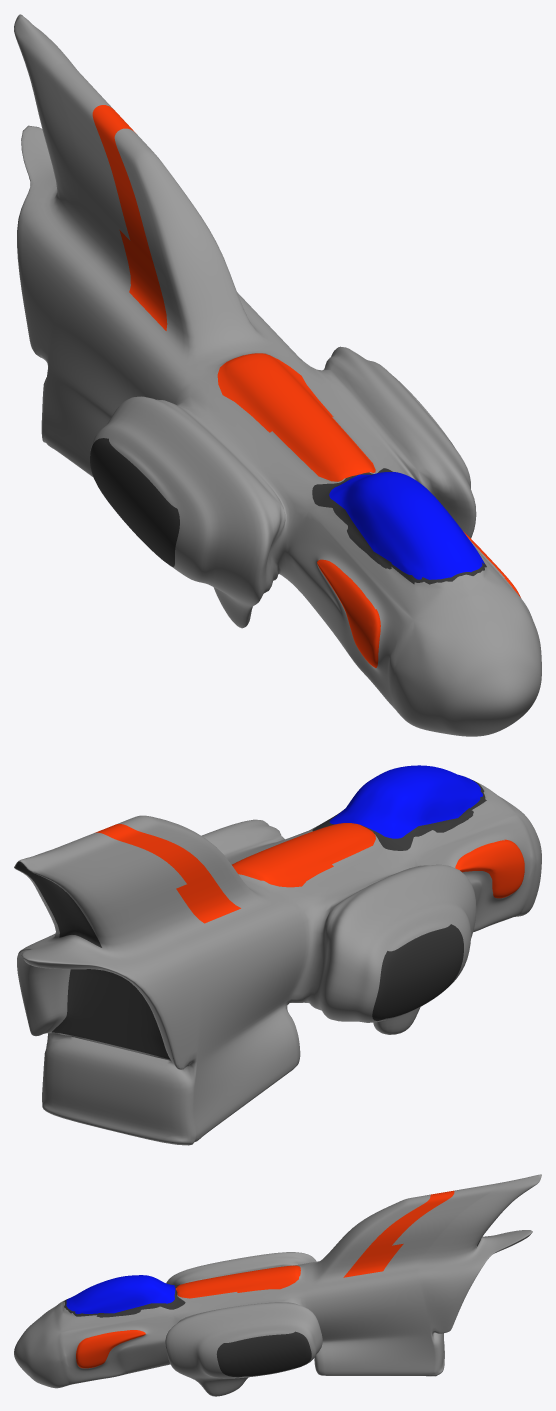
Rendered from Modular_Cockpit_01.FBX.
3 renders of one model, top to bottom at view 1: azimuth 30°, elevation 25°; view 2: azimuth 150°, elevation 25°; view 3: azimuth 270°, elevation 25°, orthographic. The views are drawn at different scales.
Parts seen in each view (by area): view 1: Box001; view 2: Box001; view 3: Box001.
Part boxes in pixels (left/top/right/bottom): Box001: left=14, top=14, right=541, bottom=736; Box001: left=14, top=765, right=541, bottom=1145; Box001: left=14, top=1174, right=541, bottom=1396.
Size of the model in its own units: 49.44 by 61.07 by 142.
